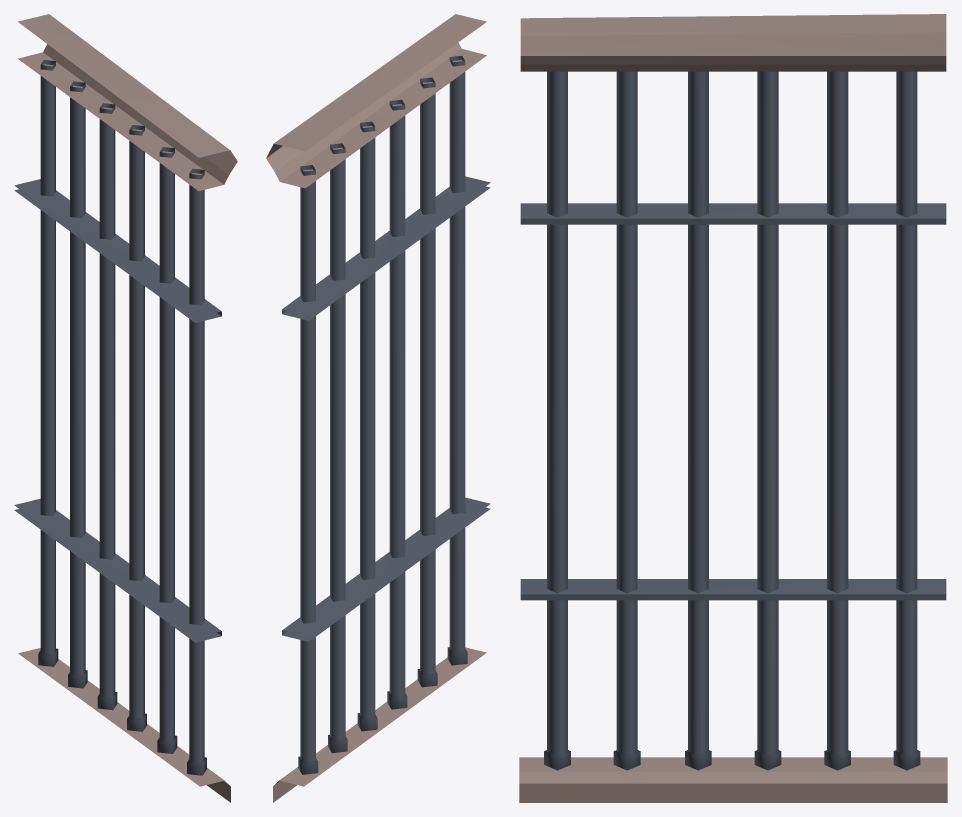
Rendered from g_o_CellWall.fbx.
The picture shows the model from 3 angles, left to right: view 1: azimuth 30°, elevation 25°; view 2: azimuth 150°, elevation 25°; view 3: azimuth 270°, elevation 25°; orthographic projection. The views are drawn at different scales.
Visible parts, largest first — view 1: p_o_CellWall; view 2: p_o_CellWall; view 3: p_o_CellWall.
Part boxes in pixels (x1,y1,x2,y2): p_o_CellWall: [14, 14, 237, 802]; p_o_CellWall: [266, 14, 490, 802]; p_o_CellWall: [519, 14, 947, 802].
Size of the model in its own units: 13.57 by 200 by 101.
